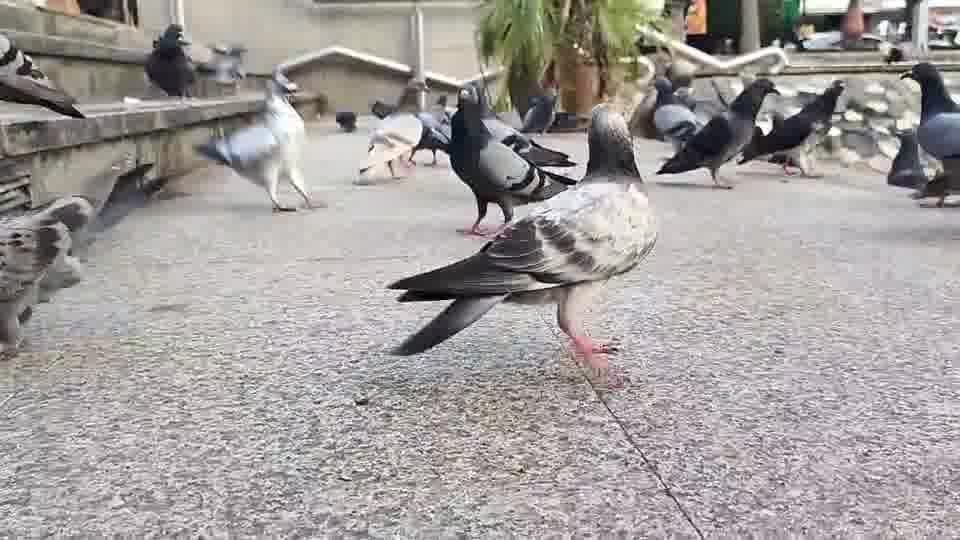Pigeon: (383, 100, 658, 388), (445, 82, 578, 236), (193, 64, 315, 213), (0, 194, 94, 359), (654, 75, 780, 189), (735, 78, 847, 177), (896, 61, 959, 207), (0, 34, 86, 119), (143, 22, 197, 98), (335, 110, 358, 132)
